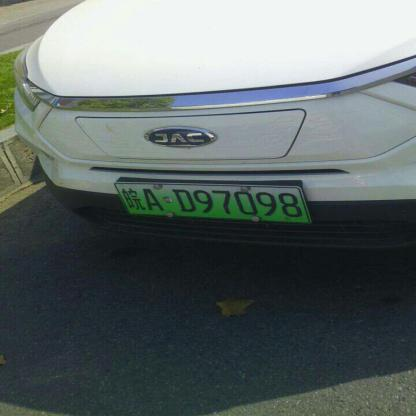lp: (114, 184, 311, 223)
